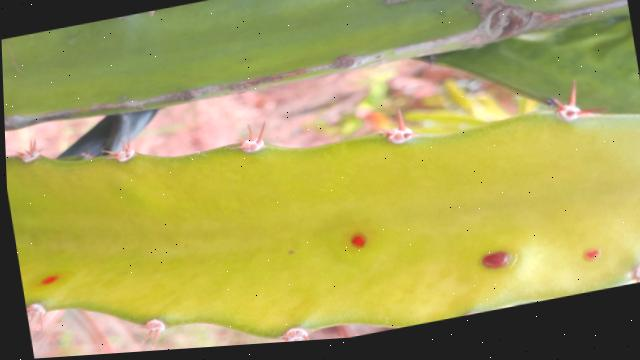stemcanker: (475, 243, 522, 278), (338, 219, 377, 257), (31, 267, 66, 289), (578, 242, 605, 267)
